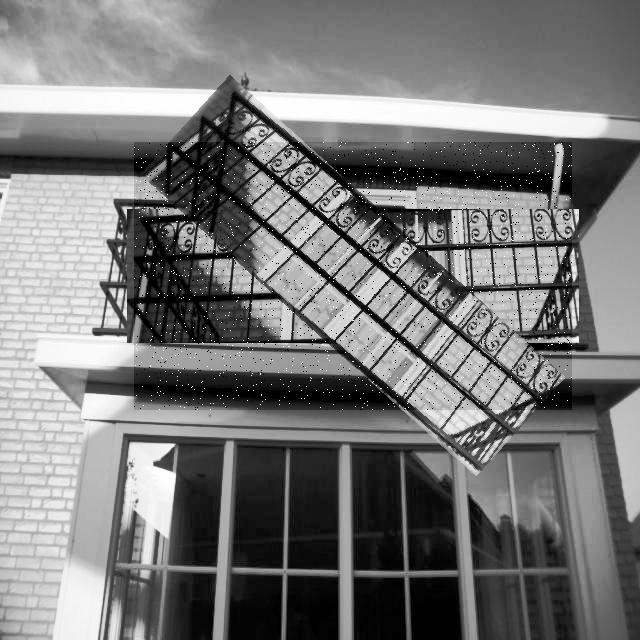fences: (134, 142, 572, 410)
